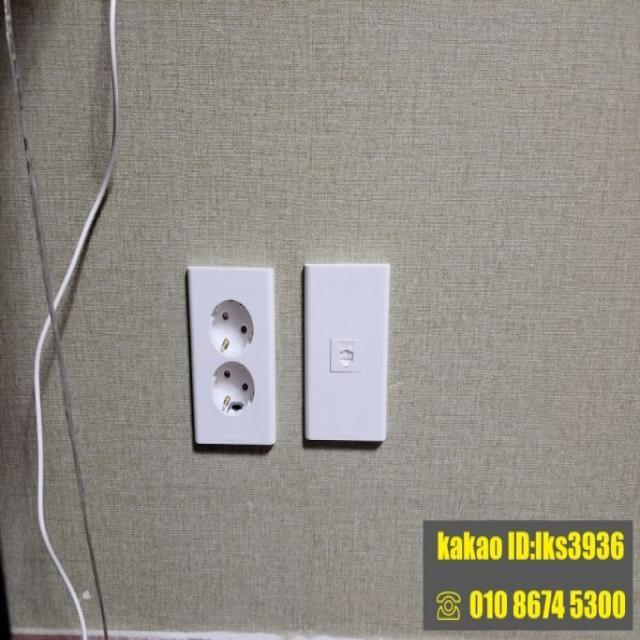typeb: (170, 240, 293, 485)
